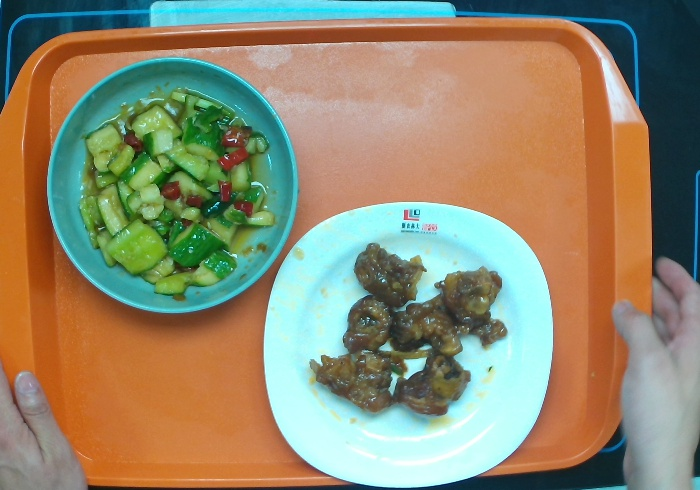ZNLD-Qing_Hua_Yuan_Wan: (42, 52, 302, 322)
ZNLD-Yuan_Jiao_Pan: (254, 200, 559, 487)
